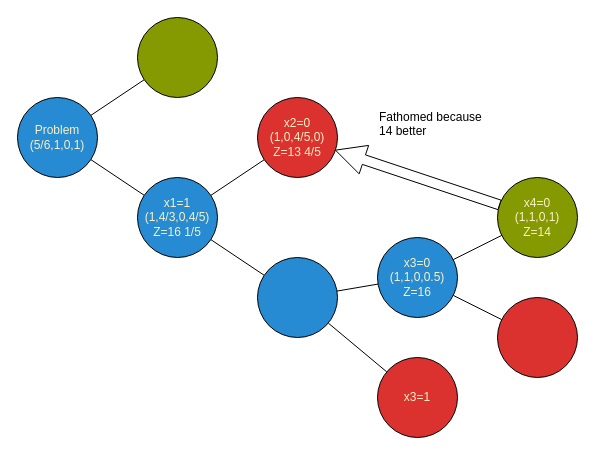
Some shapes in this 595 by 455 pixel diagram are drawn without their labels. The shapes that lost their labels are listed below. From the top down, each one's centre as x and y in pixels, then its label:
At point (177, 57): "x1=0 (0,1,0,1) Z=9".
At point (297, 297): "x2=1 (1,1,0,0.5) Z=16".
At point (537, 337): "x4=1".
